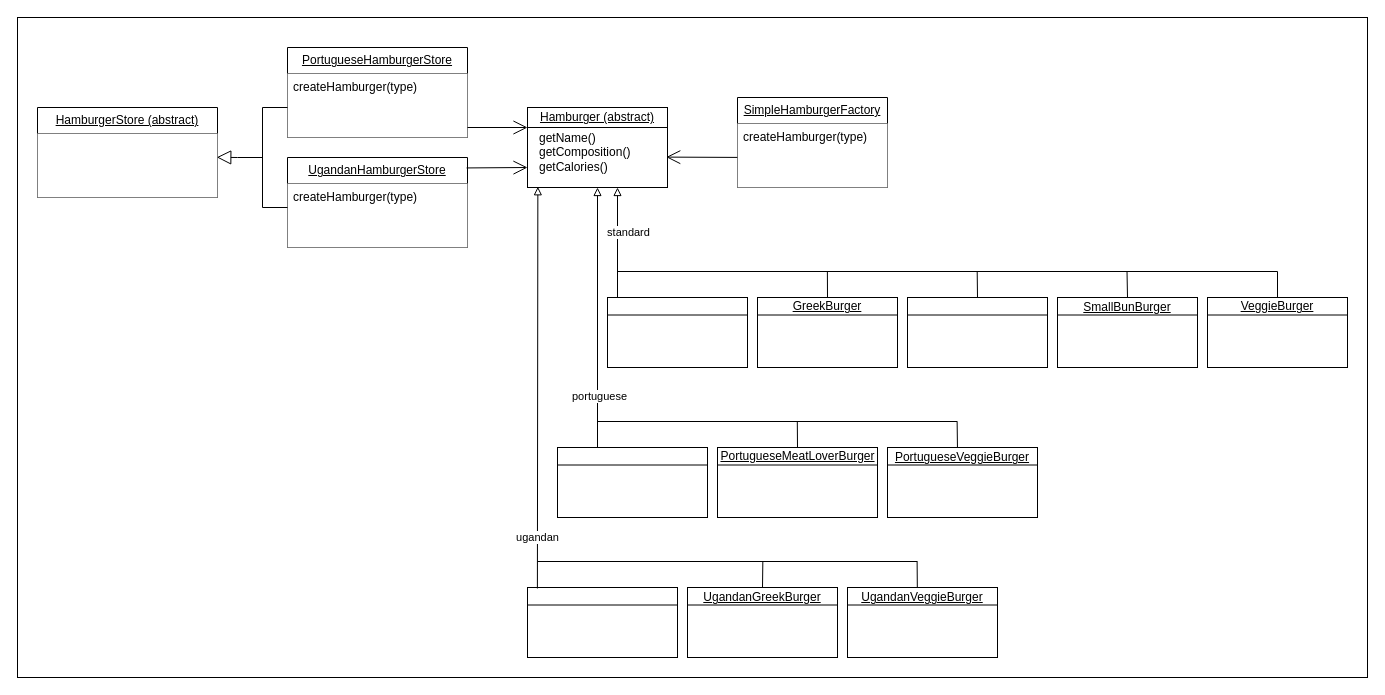
Image size: 1385x695. Some labels were removed from this diagram. Each missing label, with the centre of its shape:
"CheeseBurger" belongs at point 677,332.
"MeatLoverBurger" belongs at point 977,332.
"PortugueseCheeseBurger" belongs at point 632,482.
"takeHamburgerOrder(type)" belongs at point 127,165.
"UgandanCheeseBurger" belongs at point 602,622.
